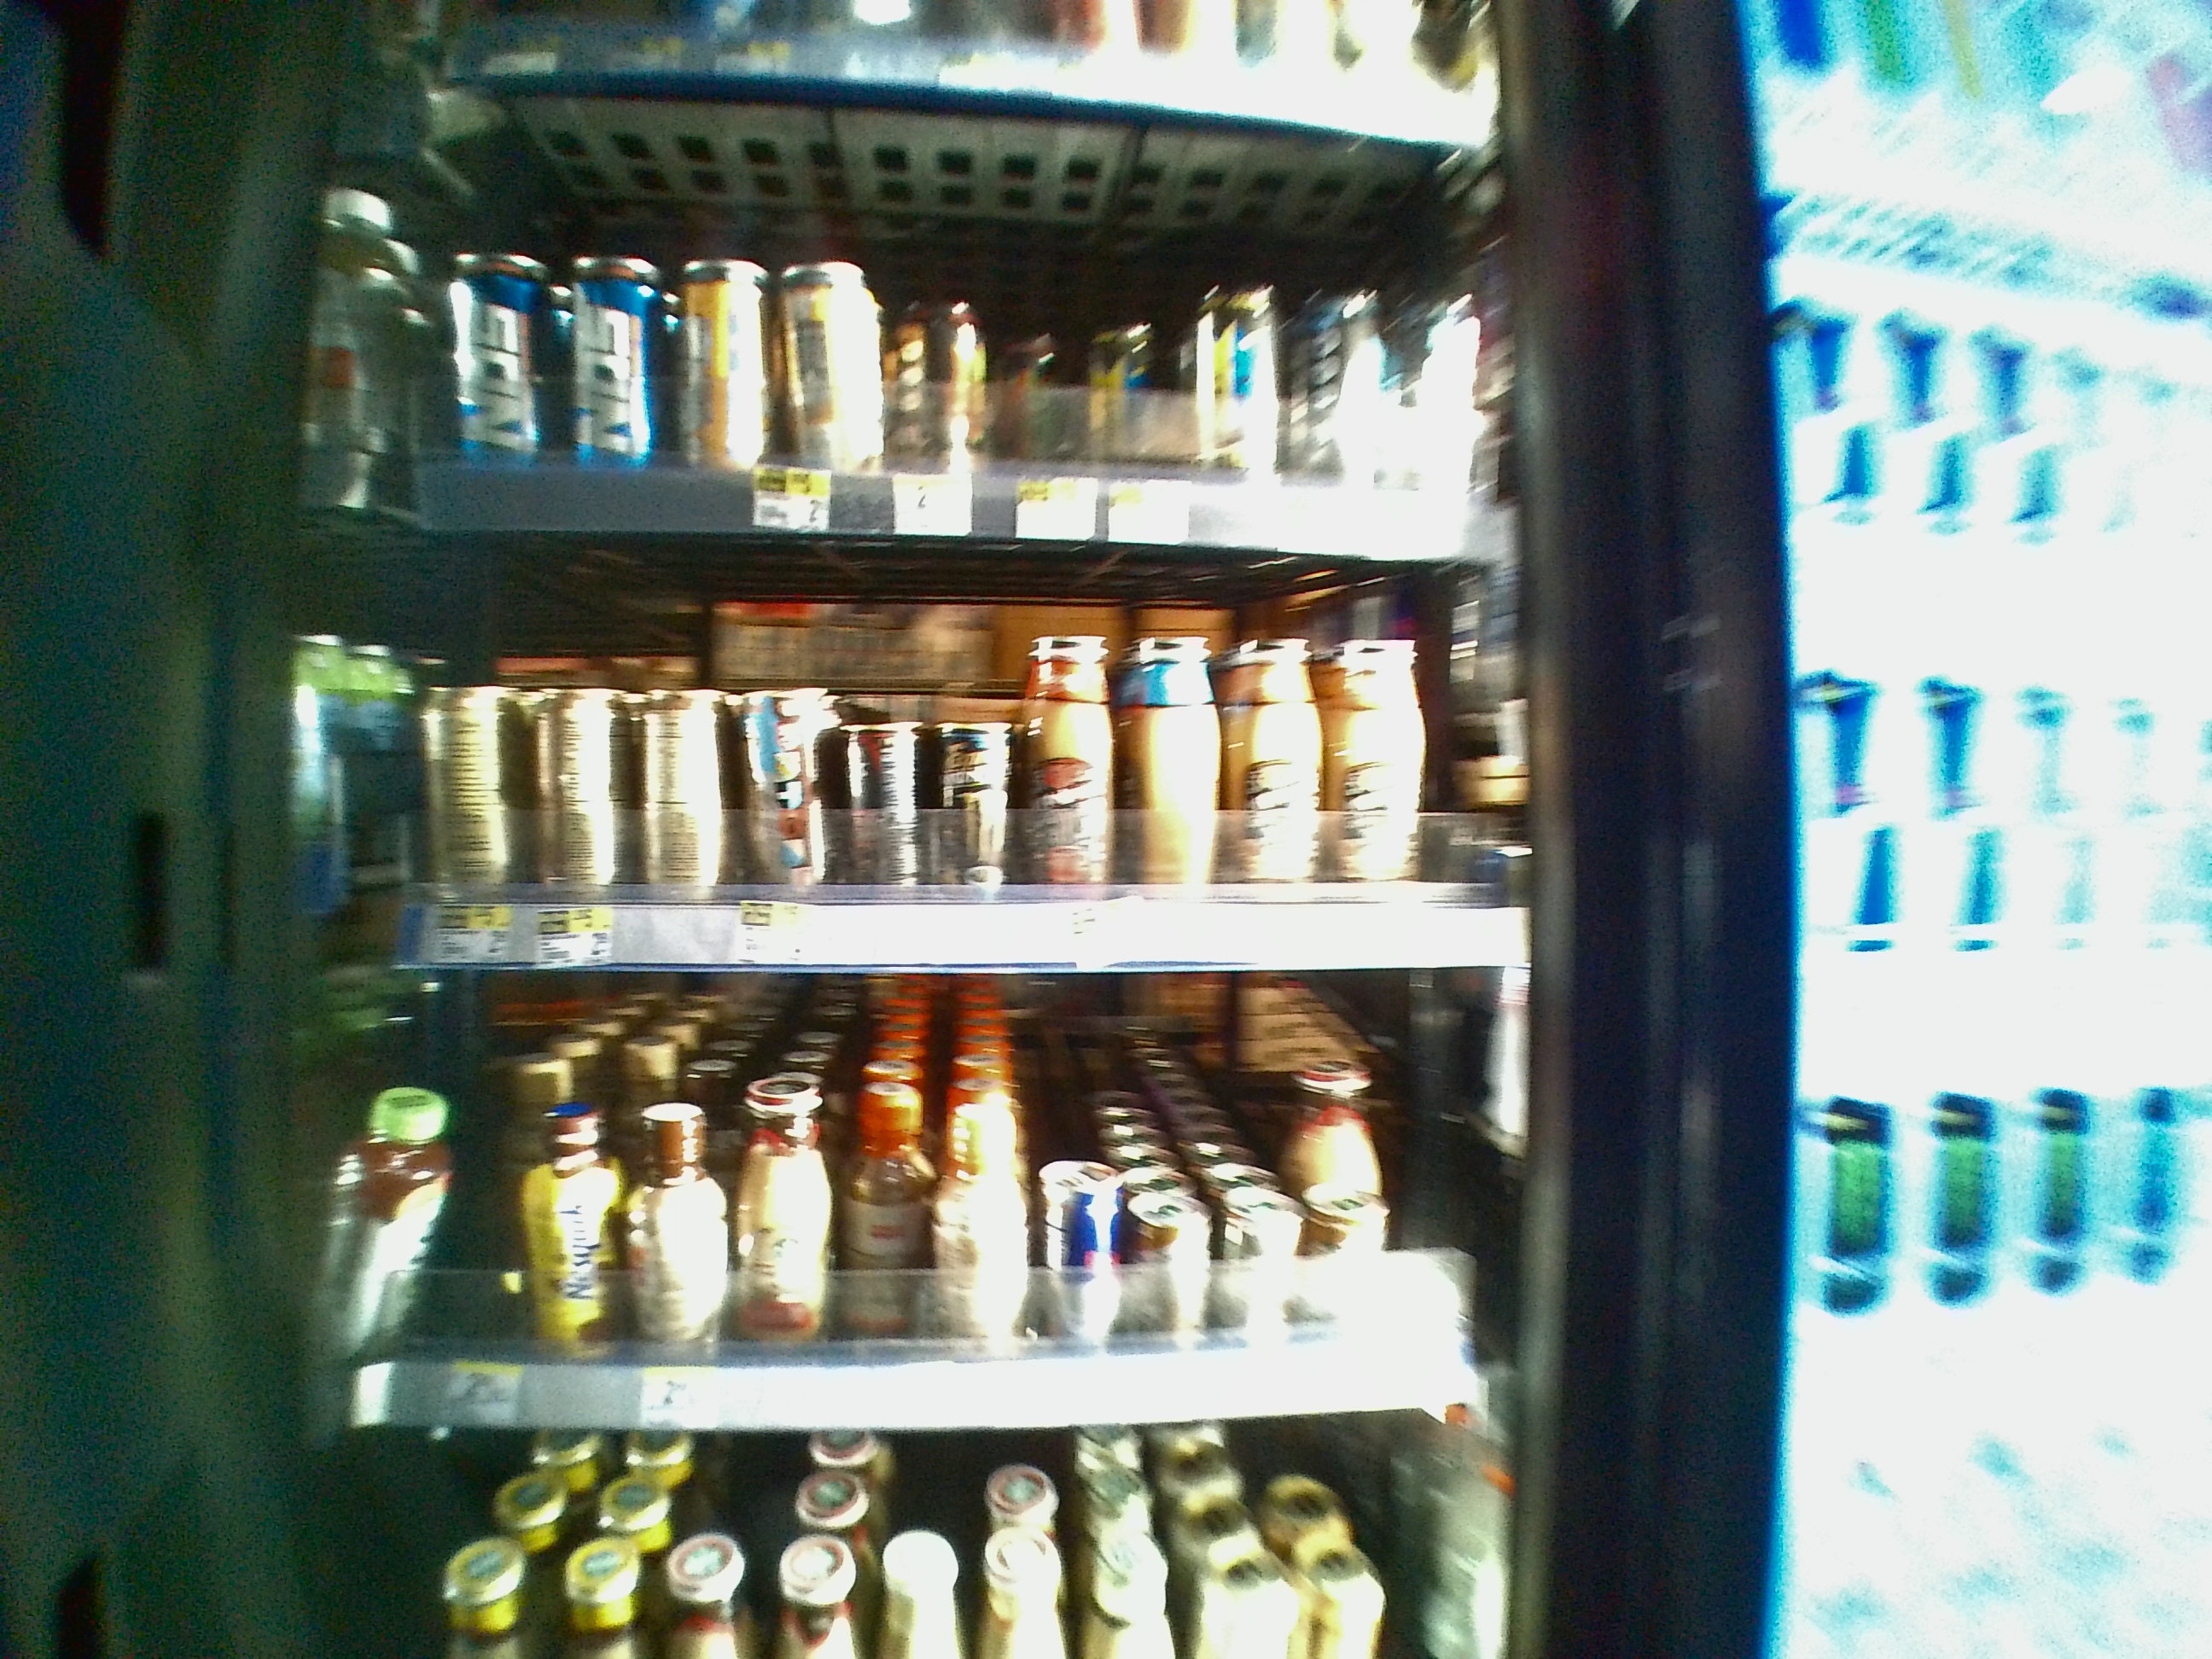shelf: (256, 964, 1547, 1424), (261, 533, 1543, 972)
